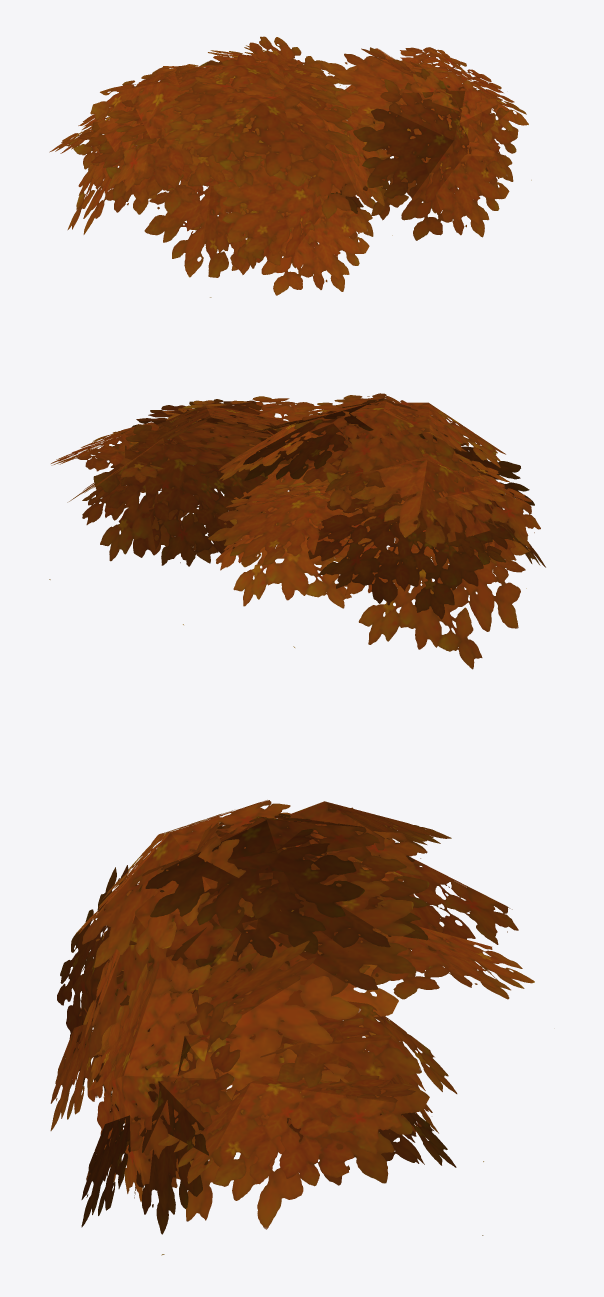
File: guanmu_02.FBX
3 views of the same model, one above another, from view 1: azimuth 30°, elevation 25°; view 2: azimuth 150°, elevation 25°; view 3: azimuth 270°, elevation 25° (orthographic). The views are drawn at different scales.
Parts seen in each view (by area): view 1: guanmu_02; view 2: guanmu_02; view 3: guanmu_02.
Part boxes in pixels (box(x1,y1,x2,y2)): guanmu_02: box(49, 36, 531, 297); guanmu_02: box(49, 393, 545, 669); guanmu_02: box(50, 800, 534, 1255).
Size of the model in its own units: 2.55 by 1.17 by 1.66.
